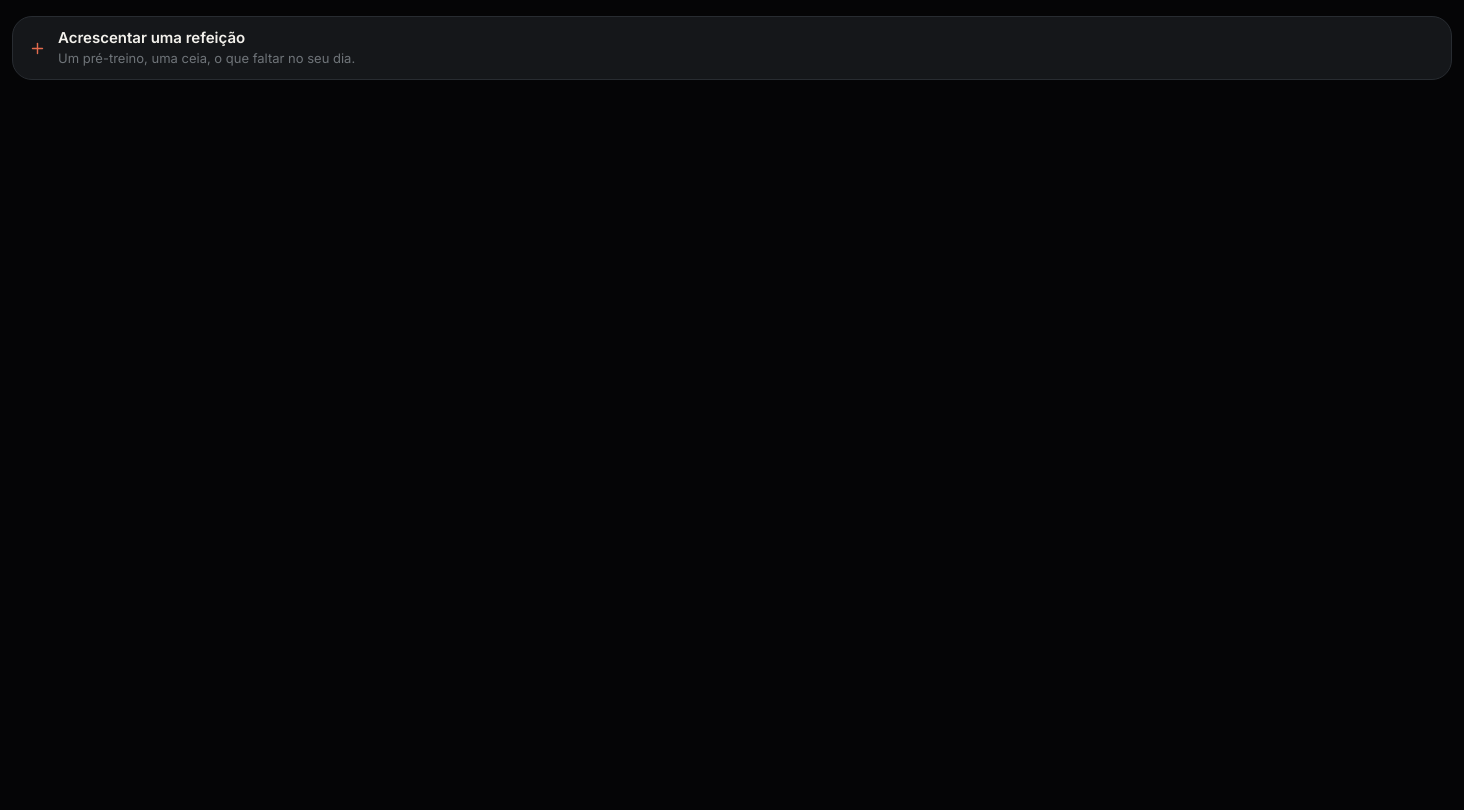
lista uma posicao por fresta entre as refeicoes
The width and height of the screenshot is (1464, 810).
Click the button with test id "abrir-acrescentar": (152, 38) [13,17,1451,79]
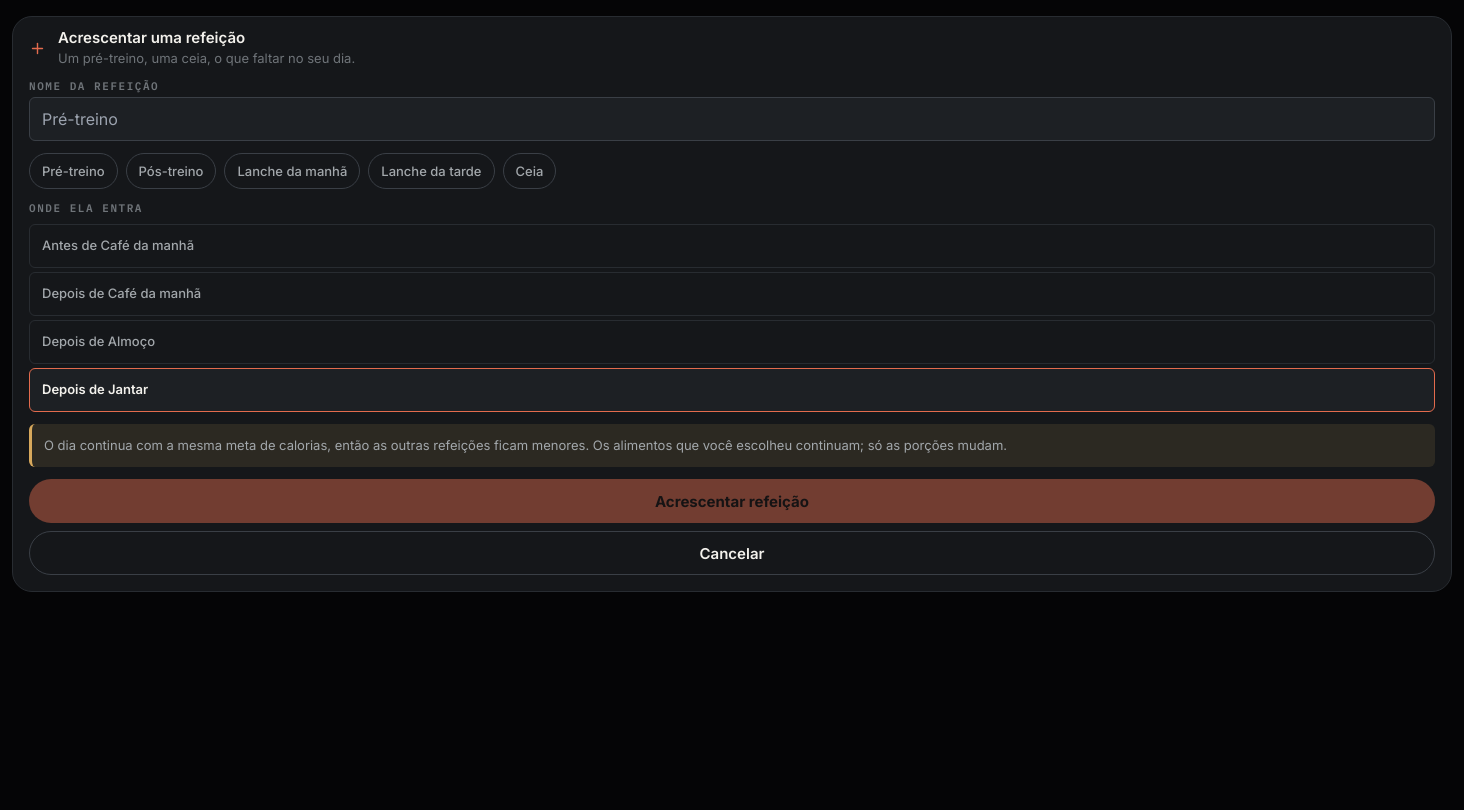
Expected: the number of buttons with class "acrescentar-posicao" is 4, [29,224,1435,268]; [29,272,1435,316]; [29,320,1435,364]; [29,368,1435,412]
Expected: the button with class "acrescentar-posicao" shows "Café da manhã", [29,224,1435,268]
